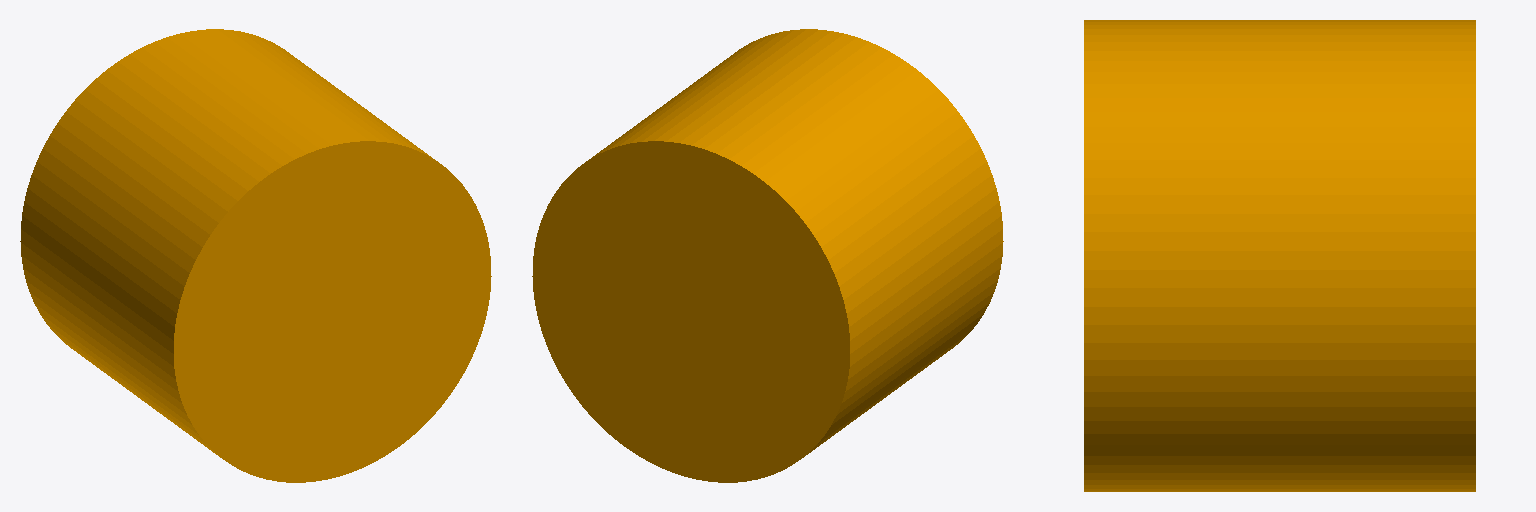
The robot description file, URDF, robot "cylinder":
<?xml version="1.0" ?>
<robot xmlns:xacro="http://www.ros.org/wiki/xacro" name="cylinder">

    <link name="cylinder">
        <inertial>
            <origin xyz="0.0 0.0 0.0" rpy="0 0 0"/>
            <mass value="2.5"/>
            <inertia ixx="0.163" ixy="0.0" ixz="0.0" iyy="0.221" iyz="0.0" izz="0.163"/>
        </inertial>

        <visual>
            <origin xyz="0.0 0.0 0.0" rpy="0.0 0.0 0.0"/>
            <geometry>
                <mesh filename="./meshes/cylinder/cylinder.obj" scale="1 1 1"/>
            </geometry>
        </visual>

        <collision>
            <origin xyz="0.0 0.0 0.0" rpy="0.0 0.0 0.0"/>
            <geometry>
                <mesh filename="./meshes/cylinder_collision/cylinder_collision.obj" scale="1 1 1"/>
            </geometry>
        </collision>
    </link>
</robot>

--- What the picture shows (computed from the rendered views, not written in the file) ---
The picture shows the robot from 3 angles, left to right: view 1: azimuth 30°, elevation 25°; view 2: azimuth 150°, elevation 25°; view 3: azimuth 270°, elevation 25°; orthographic projection.
Robot: cylinder — 1 links, 0 joints (none); root link cylinder; default pose: every joint at zero.
Visible links, largest first — view 1: cylinder; view 2: cylinder; view 3: cylinder.
Link boxes in pixels (bbox=[...]): cylinder: bbox=[20, 29, 491, 482]; cylinder: bbox=[532, 29, 1003, 482]; cylinder: bbox=[1084, 20, 1475, 491].
Size in the robot's own frame: 0.5999 by 0.5 by 0.6 metres.
Meshes: 1 distinct files referenced, 1 mesh visuals loaded (1 OBJ).
